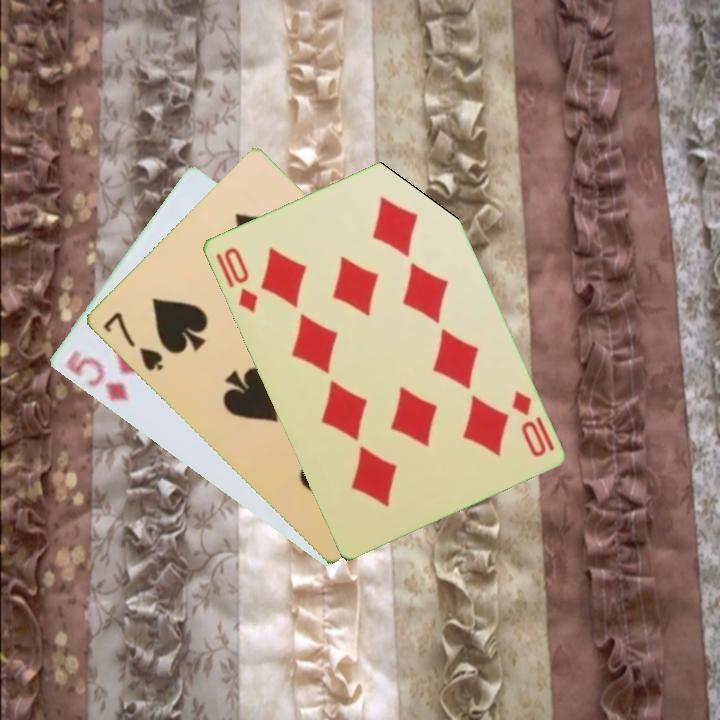10d: (219, 243, 261, 316), (507, 387, 549, 460)
5d: (61, 347, 132, 405)
7s: (99, 308, 166, 374)
